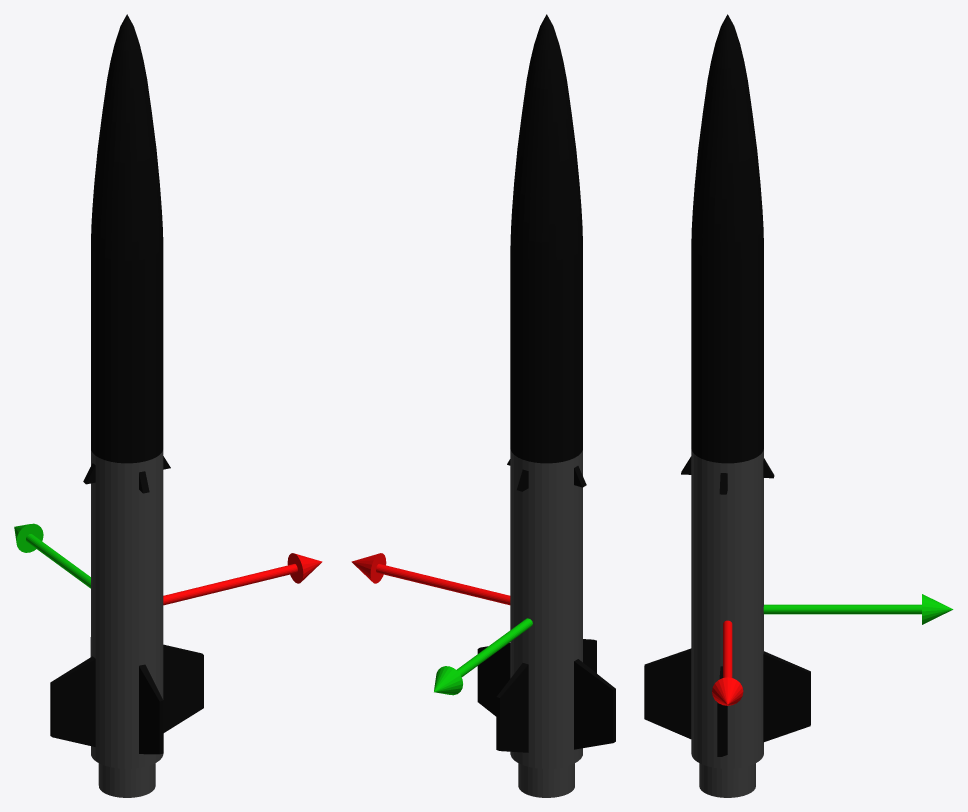
File: rocket.obj
3 views of the same model, side by side, from view 1: azimuth 30°, elevation 25°; view 2: azimuth 150°, elevation 25°; view 3: azimuth 270°, elevation 25° (orthographic).
Parts seen in each view (by area): view 1: Cone, Cone.002_Cone.003, Cone.001_Cone.002; view 2: Cone, Cone.002_Cone.003, Cone.001_Cone.002; view 3: Cone, Cone.001_Cone.002, Cone.002_Cone.003.
Part boxes in pixels (x1,y1,x2,y2): Cone: (50,14,203,797); Cone.002_Cone.003: (163,553,322,605); Cone.001_Cone.002: (14,523,90,588); Cone: (477,14,615,797); Cone.002_Cone.003: (351,553,510,605); Cone.001_Cone.002: (434,618,532,695); Cone: (644,14,810,797); Cone.001_Cone.002: (763,594,953,624); Cone.002_Cone.003: (712,620,743,705).
Size of the model in its own units: 5.89 by 16.21 by 5.89.
